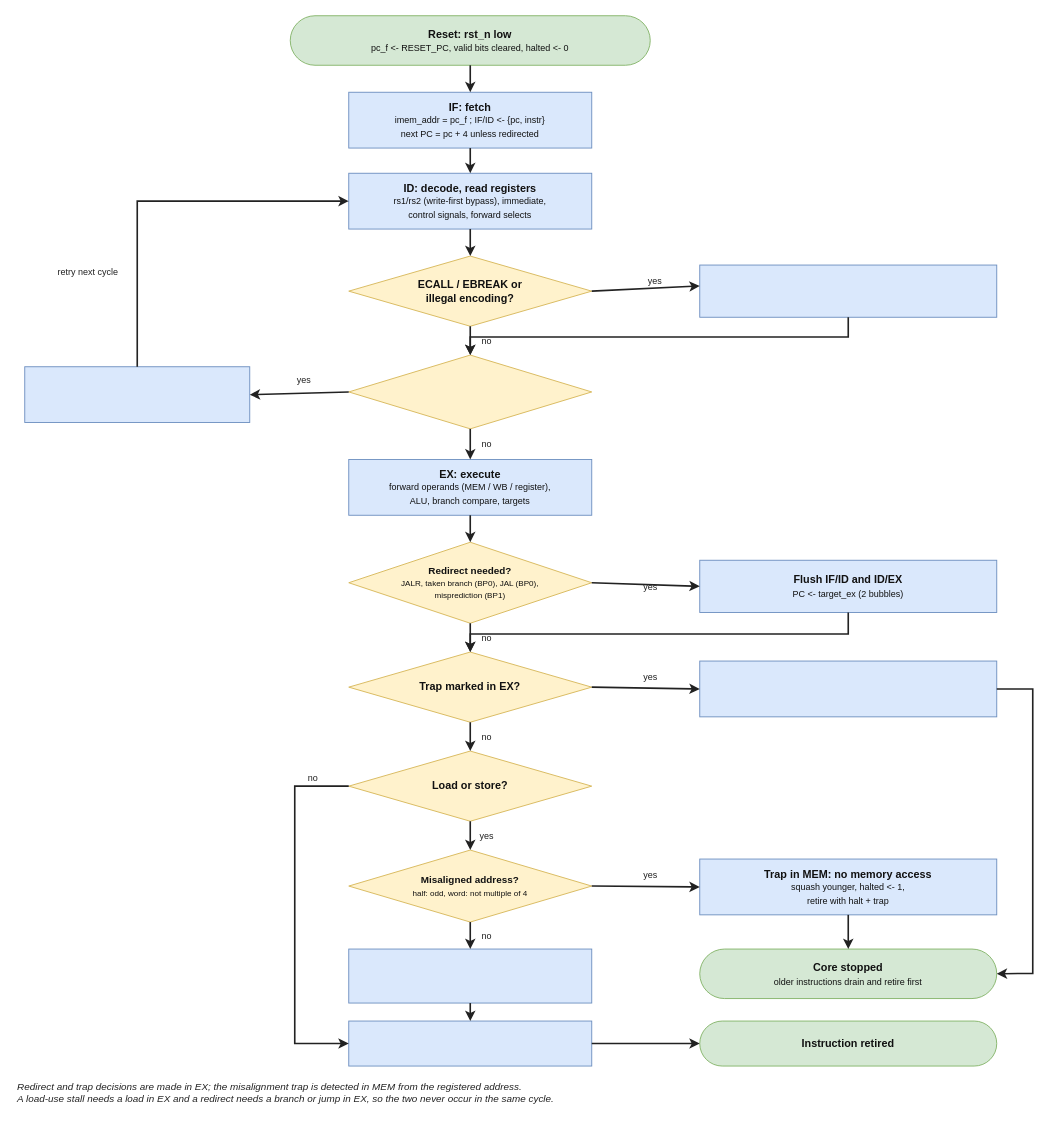
This 1056x1121 diagram has some shape labels left out. The centre of each missing label's shape, as x and y in pixels:
"Load-use hazard? a load in EX writes rs1 / rs2" goes at [470,391].
"Mark the instruction as a trap no register, memory or PC effect of its own" goes at [848,290].
"MEM: access data memory byte strobes, lane shift, sign / zero extend" goes at [470,975].
"Squash younger instructions halted <- 1 ; retire with halt (and trap)" goes at [848,688].
"Stall one cycle hold PC and IF/ID, bubble into ID/EX" goes at [137,394].
"WB: write rd (rd != x0), retire RVFI record on the trace port" goes at [470,1043].
